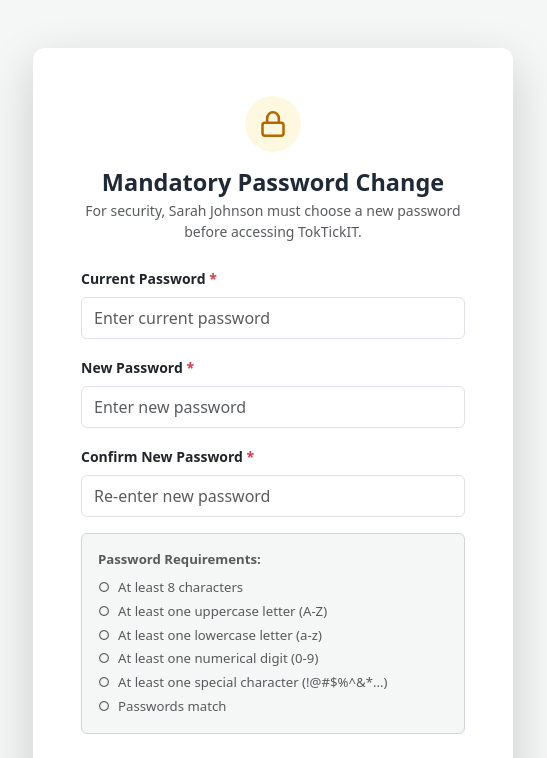
Component: ChangePassword (Feature 12 - UI-02, AC-02) › UI-02-05: displays error alert when changePasswordApi rejects with invalid current password
Type "IncorrectOldPw!" into the password field labelled "Current Password *" at (273, 318), box [81,297,465,339]
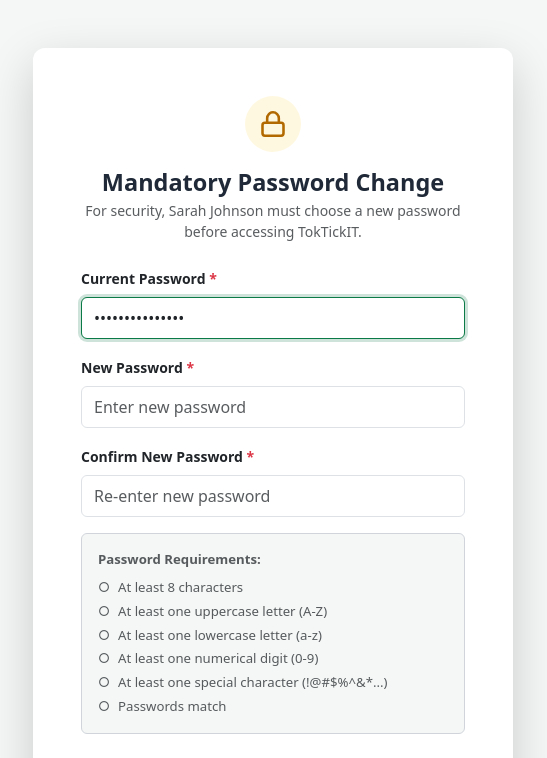
Type "FreshSecureP@ss1" into the password field labelled "New Password *" at (273, 407), box [81,386,465,428]
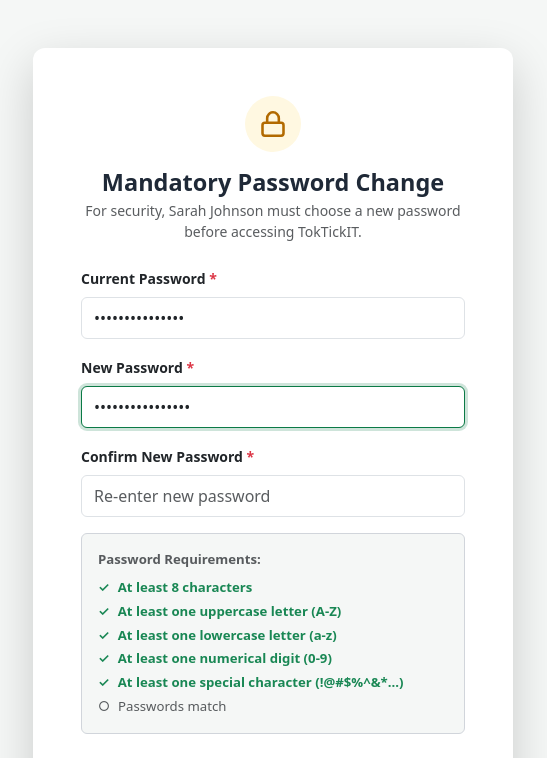
Type "FreshSecureP@ss1" into the password field labelled "Confirm New Password *" at (273, 496), box [81,475,465,517]
(page scrolled)
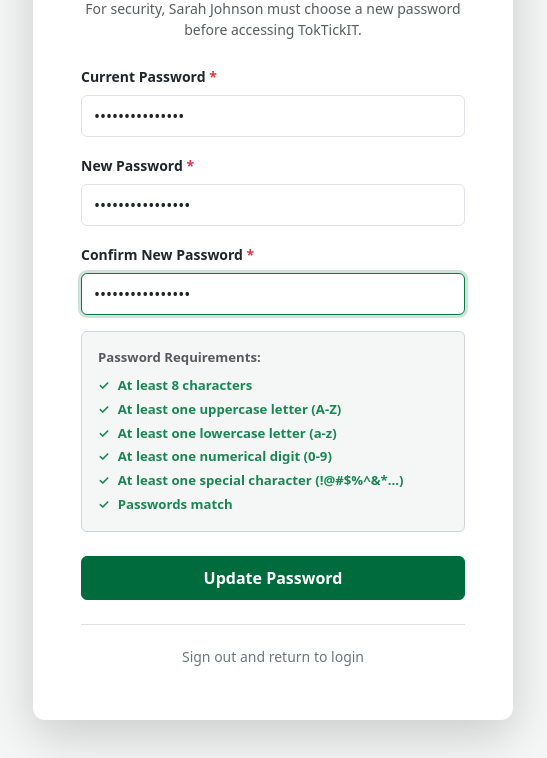
Click the button "Update Password" at (273, 578), box [81,556,465,600]
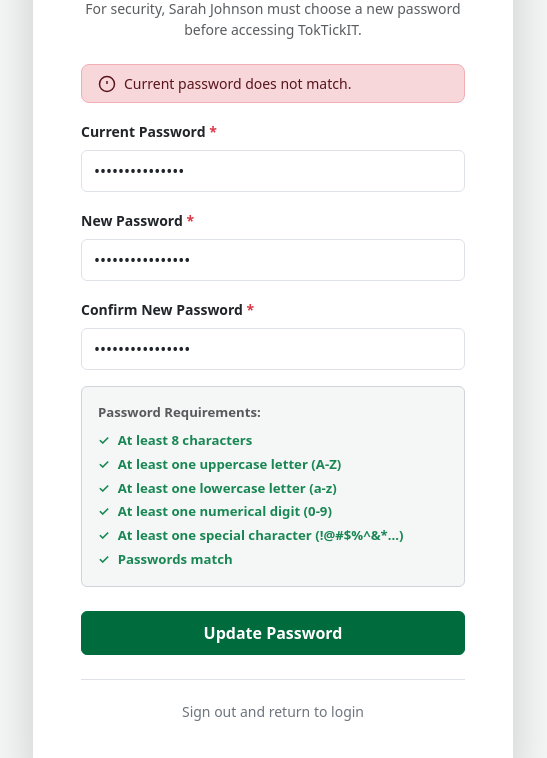
Check: the message "Current password does not match." is shown, box [81,64,465,103]
Check: the message with test id "change-password-error" reads "Current password does not match.", box [124,74,351,93]
